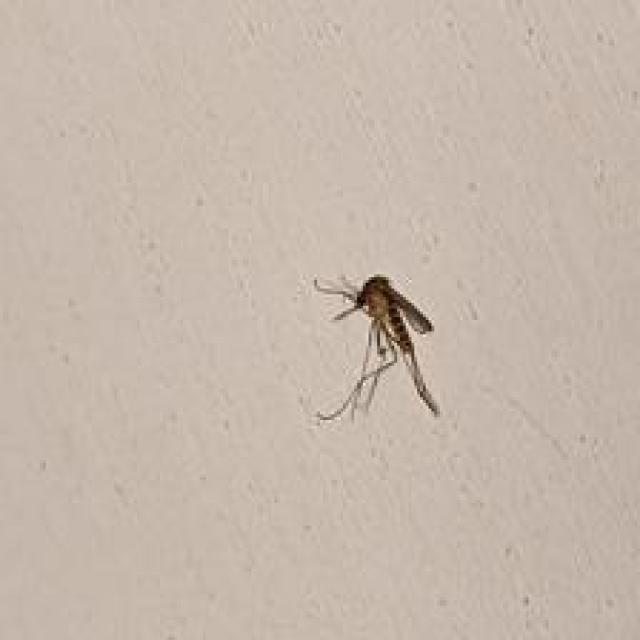Culex: (311, 271, 443, 423)
